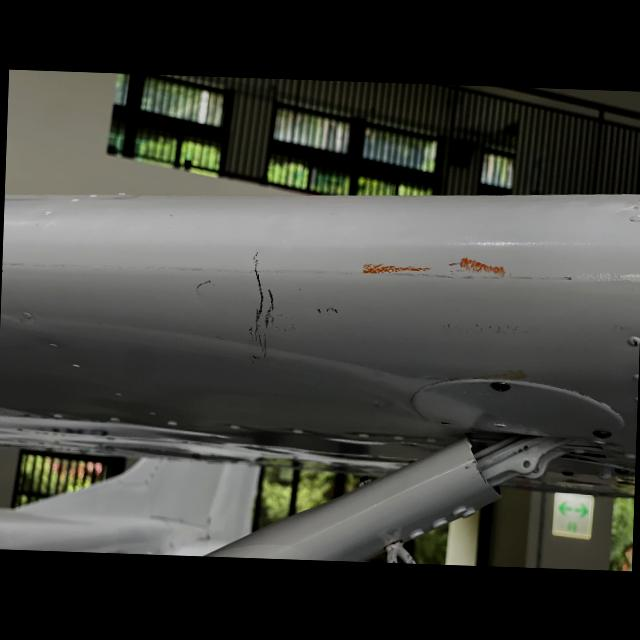Missing Fastener: (435, 418, 452, 426)
